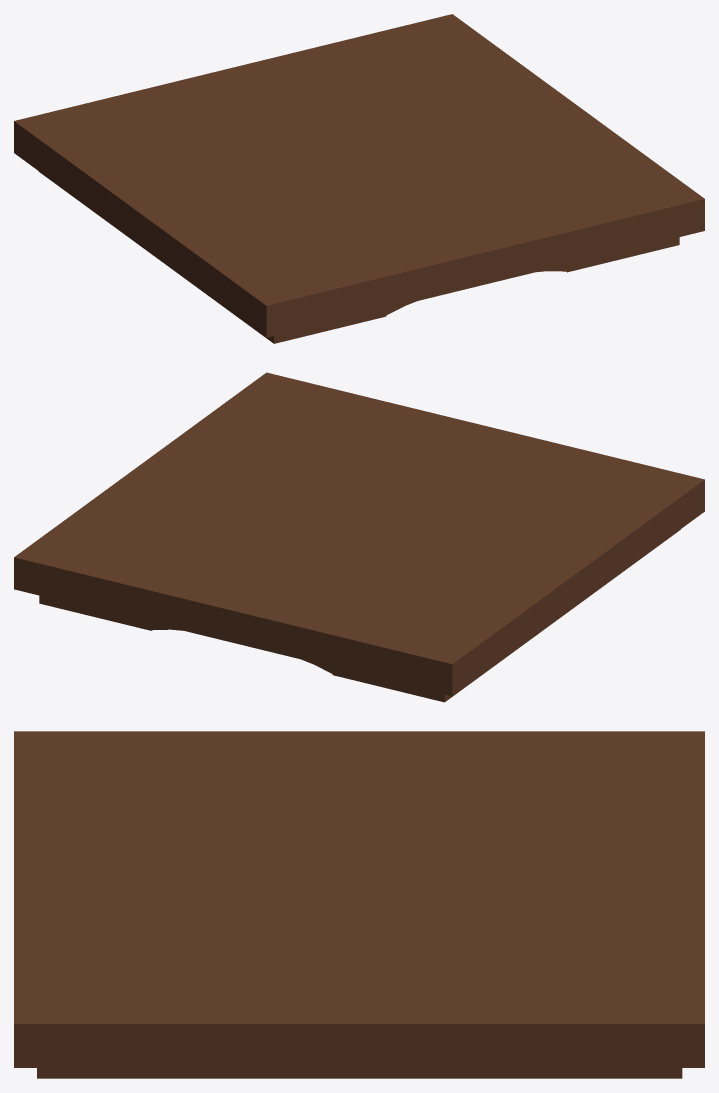
3 views of the same model, one above another, from view 1: azimuth 30°, elevation 25°; view 2: azimuth 150°, elevation 25°; view 3: azimuth 270°, elevation 25° (orthographic). The views are drawn at different scales.
Visible parts, largest first — view 1: MainModel:0; view 2: MainModel:0; view 3: MainModel:0.
Part boxes in pixels (<box>): MainModel:0: <box>14,14,704,343</box>; MainModel:0: <box>14,372,704,702</box>; MainModel:0: <box>14,731,704,1078</box>.
Size of the model in its own units: 1.66 by 0.2272 by 1.66.
